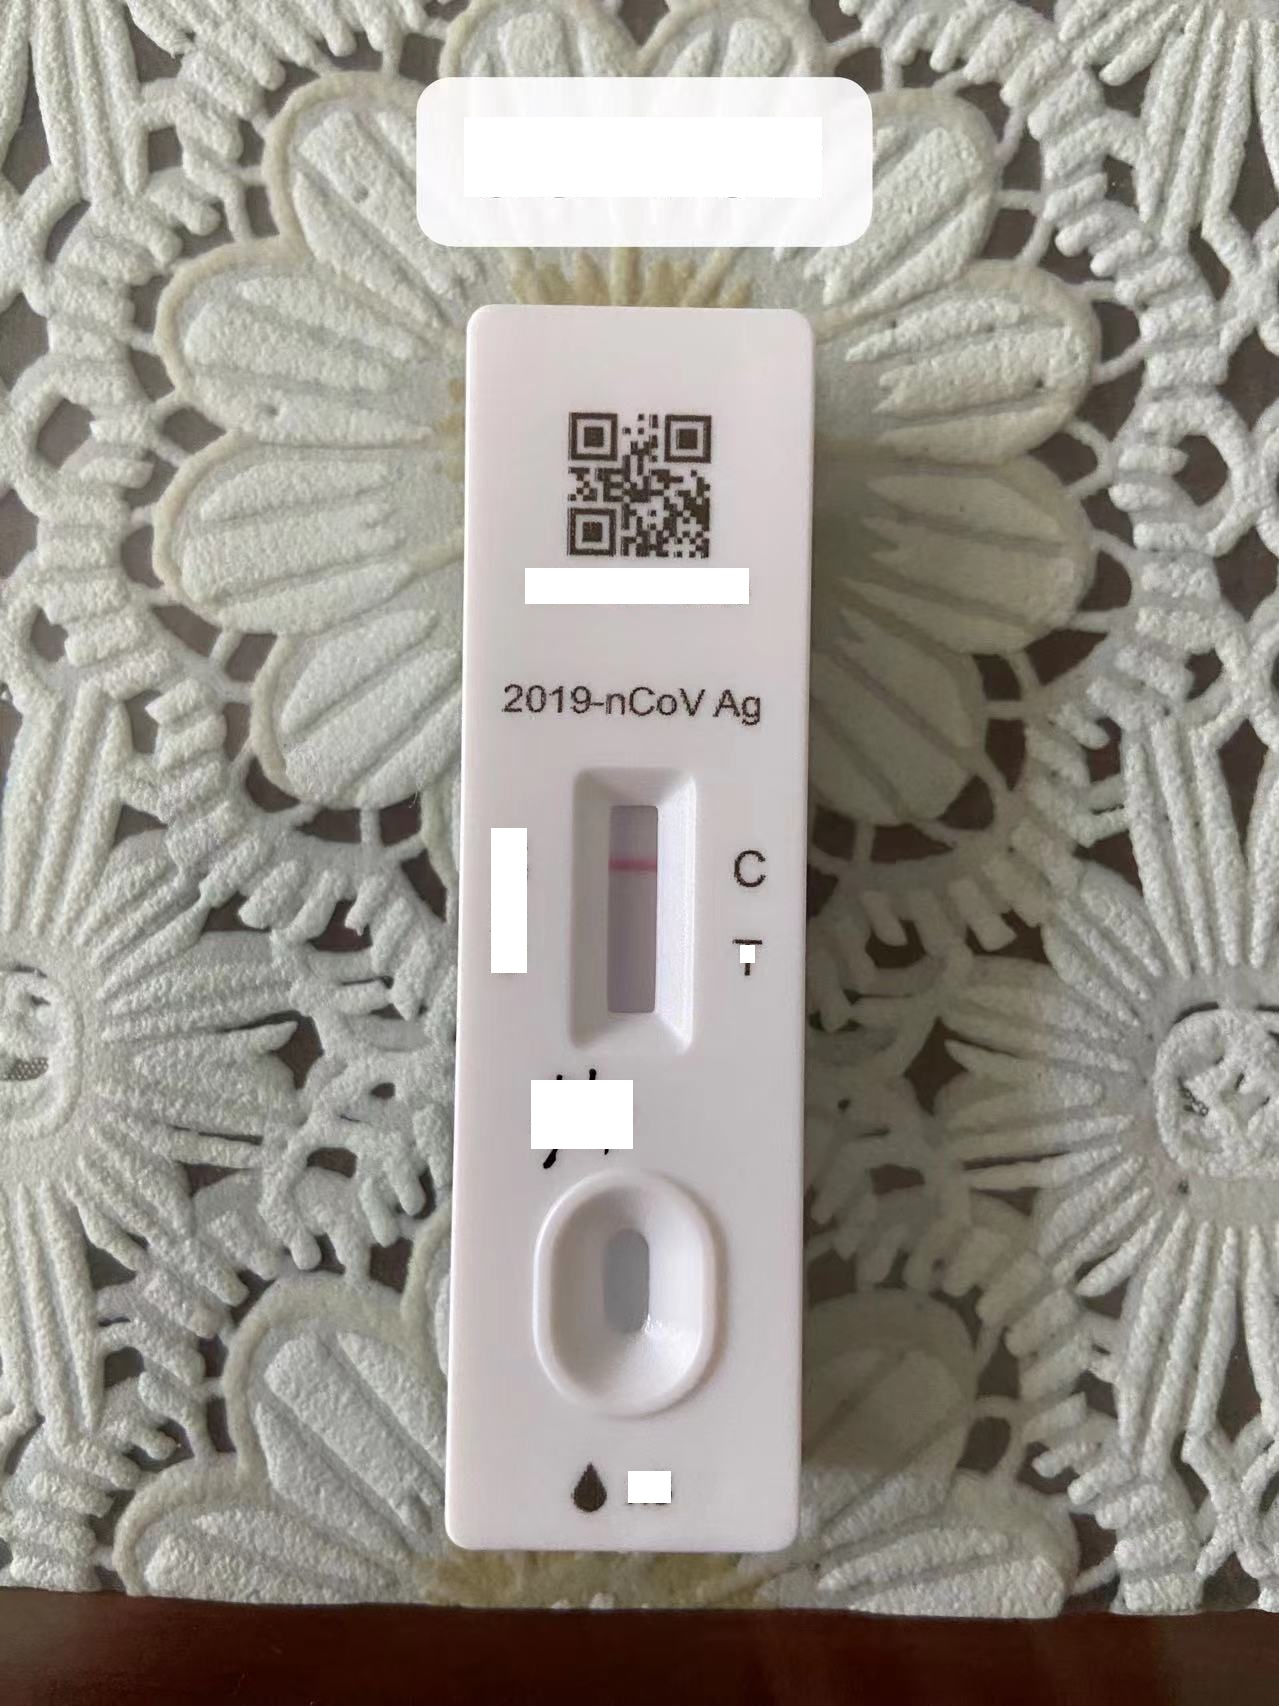negative: (571, 758, 689, 1050)
